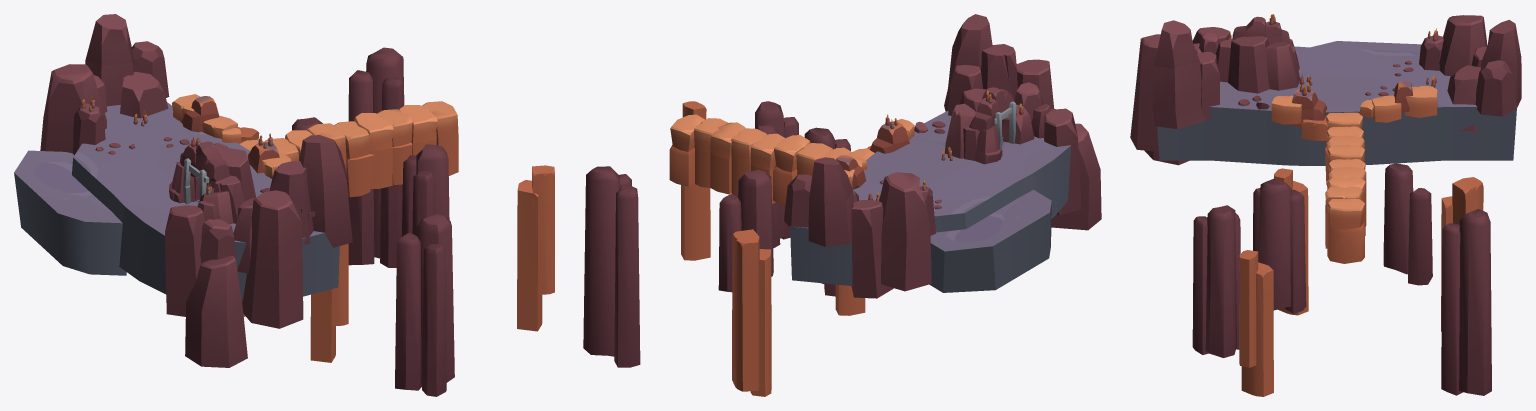
File: Cave Bridge level (1).fbx
The picture shows the model from 3 angles, left to right: view 1: azimuth 30°, elevation 25°; view 2: azimuth 150°, elevation 25°; view 3: azimuth 270°, elevation 25°; orthographic projection. The views are drawn at different scales.
Visible parts, largest first — view 1: Plane.007, Cube.100, Circle.043, Cube.096, Circle.039, Circle.047, Circle.035, Circle.042, Cube.098, Cube.101, Circle.038, Cube.102 (+23 smaller); view 2: Plane.007, Cube.096, Circle.042, Cube.088, Cube.099, Circle.038, Circle.040, Circle.039, Cube.101, Circle.035, Cube.092, Circle.047 (+23 smaller); view 3: Plane.007, Cube.096, Cube.100, Cube.098, Cube.099, Circle.047, Cube.101, Cube.104, Circle.043, Circle.042, Circle.063, Cube.102 (+27 smaller).
Boxes of the visible parts, x1,y1,x2,y2 form: Plane.007: (14, 102, 339, 300); Cube.100: (395, 214, 454, 396); Circle.043: (242, 190, 303, 328); Cube.096: (348, 47, 404, 267); Circle.039: (185, 256, 247, 367); Circle.047: (299, 135, 352, 247); Circle.035: (165, 205, 204, 316); Circle.042: (40, 64, 106, 153); Cube.098: (401, 144, 449, 236); Cube.101: (517, 180, 542, 331); Circle.038: (85, 14, 133, 106); Cube.102: (532, 165, 554, 294); Plane.007: (790, 111, 1071, 292); Cube.096: (583, 166, 640, 367); Circle.042: (879, 172, 931, 291); Cube.088: (732, 229, 760, 391); Cube.099: (718, 169, 773, 292); Circle.038: (808, 157, 854, 246); Circle.040: (851, 200, 893, 298); Circle.039: (1051, 123, 1101, 230); Cube.101: (681, 183, 710, 260); Circle.035: (1043, 108, 1081, 215); Cube.092: (750, 249, 771, 396); Circle.047: (944, 14, 992, 111); Plane.007: (1157, 41, 1516, 165); Cube.096: (1441, 209, 1491, 395); Cube.100: (1192, 205, 1240, 357); Cube.098: (1253, 178, 1306, 313); Cube.099: (1383, 163, 1432, 285); Circle.047: (1152, 20, 1205, 128); Cube.101: (1241, 262, 1273, 396); Cube.104: (1327, 198, 1364, 263); Circle.043: (1130, 34, 1160, 151); Circle.042: (1439, 15, 1487, 76); Circle.063: (1228, 36, 1269, 93); Cube.102: (1239, 250, 1258, 367).
Bounding box in the file's own units: 10.61 × 6.95 × 8.99.
